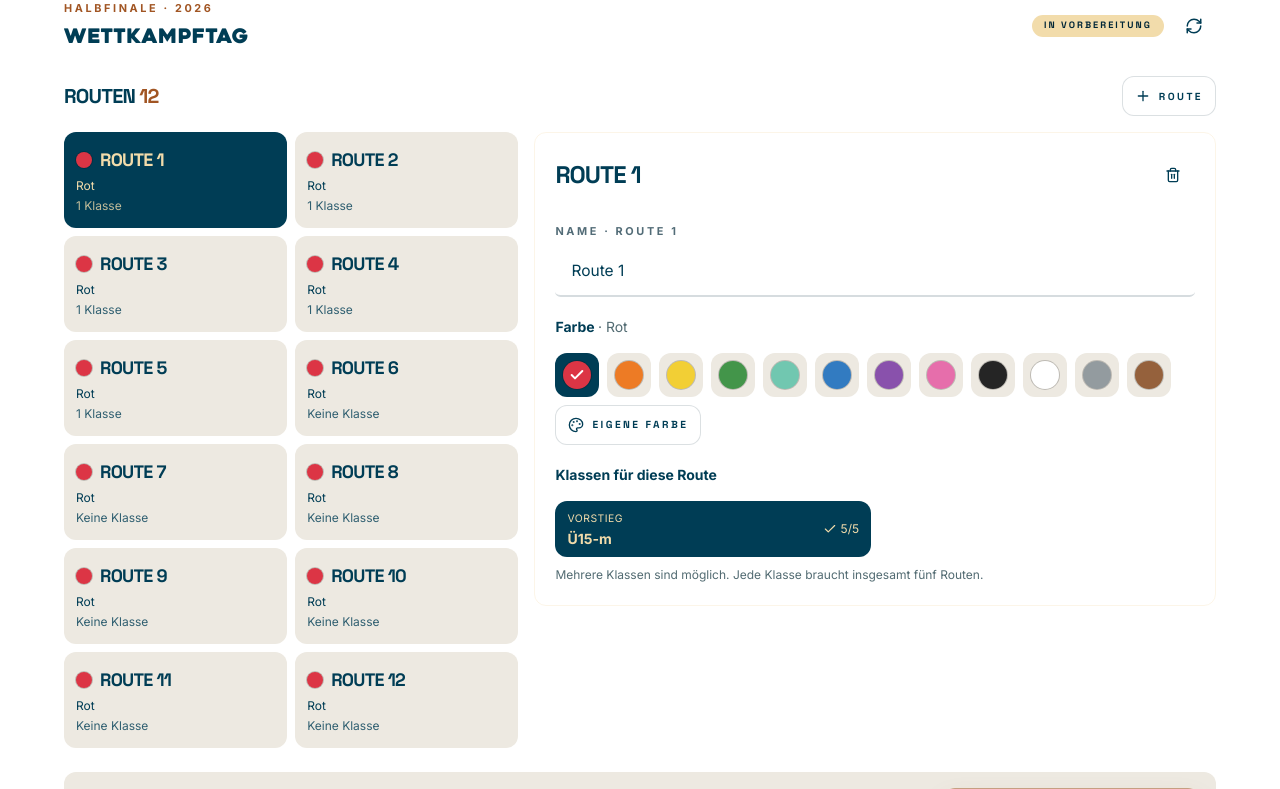
competition admin › confirms route removal and does not save or remove assignments automatically
What coordinates should you click on to do the following:
click the button named "Route 1 entfernen"
I would click on:
 (1173, 175)
Its box is [1151, 153, 1195, 197].
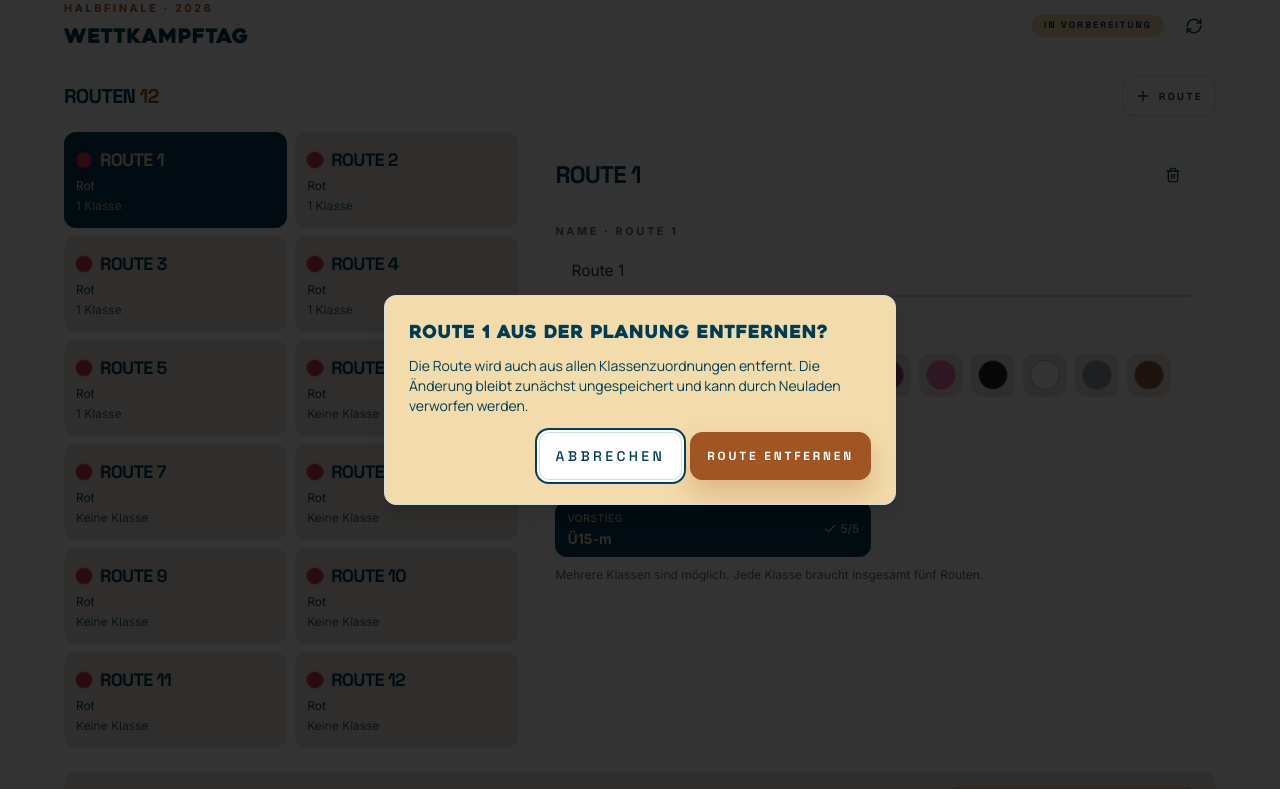
Check: the field labelled "Name · Route 1" is shown, box [571, 259, 1179, 283]
Check: the dialog shows "auch aus allen Klassenzuordnungen entfernt", box [409, 356, 841, 415]
What coordinates should you click on to do the following:
click the button "Route entfernen"
I would click on:
 (781, 456)
Its box is [690, 432, 871, 480].
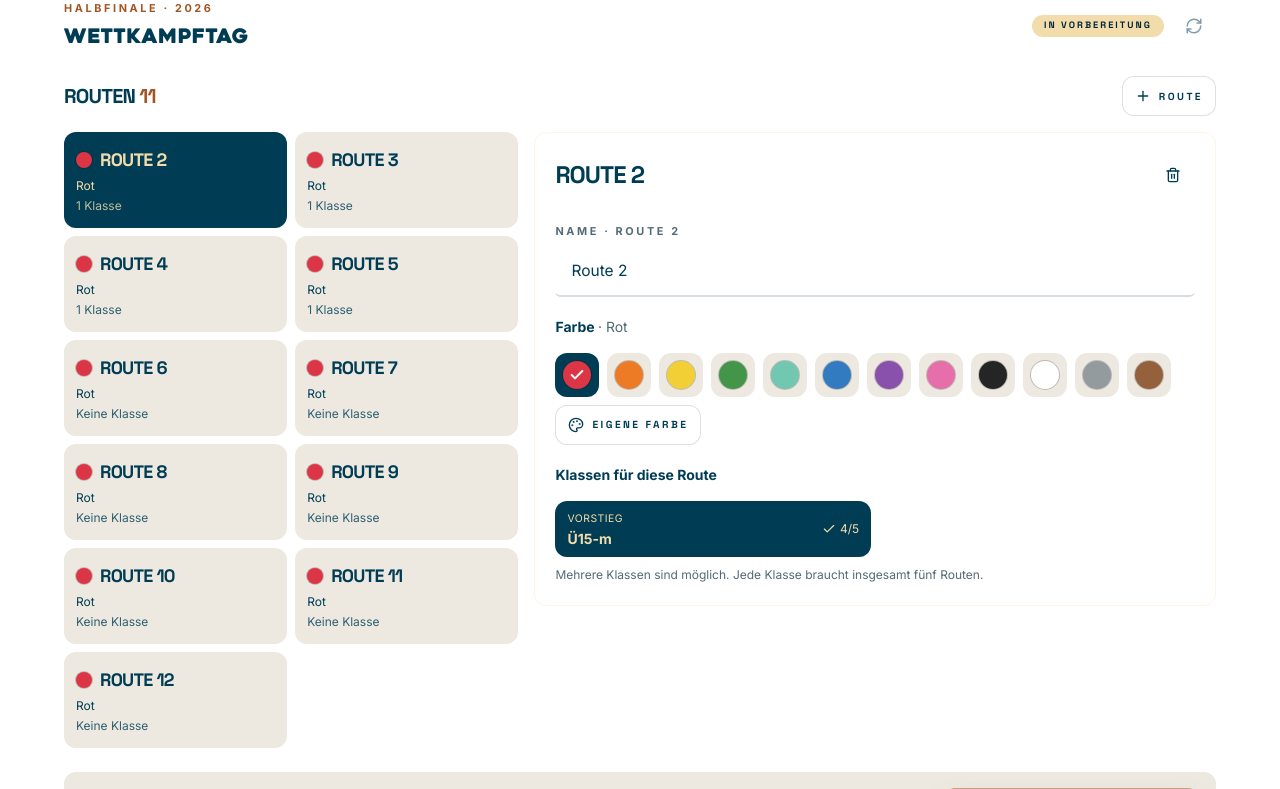
Check: the text labelled "Name · Route 1" is gone
Check: the button with aria-label "Vorstieg Ü15-m für Route 2" shows "4/5", box [555, 501, 871, 557]
